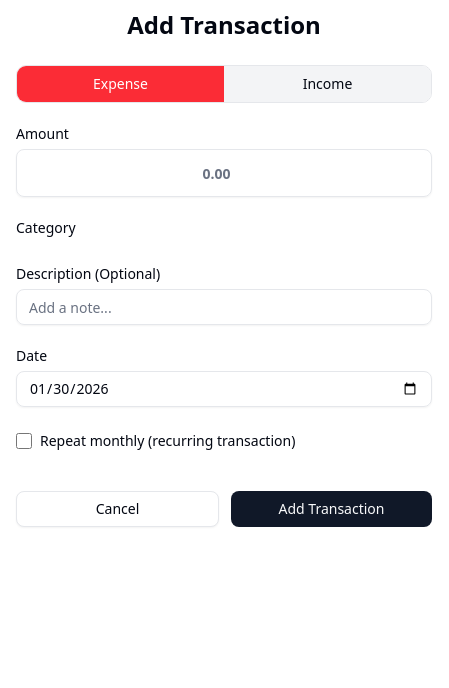
Scenario: Basic Integration Tests › Error Handling › should clear validation errors when user corrects input
Note: Submit to trigger validation errors
Click the button "Add Transaction" at (332, 509), box 231,491 -> 432,527
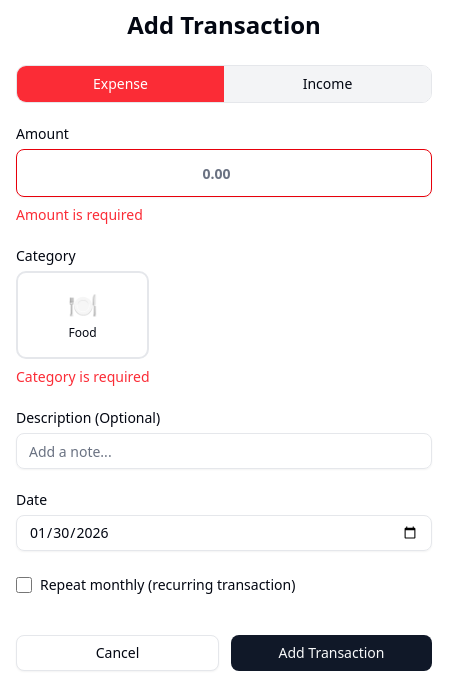
Result: the text "Amount is required" is shown at 16,205 -> 143,224
Note: Fix the amount error
Type "100" into the number field labelled "Amount" at (224, 173), box 16,149 -> 432,197
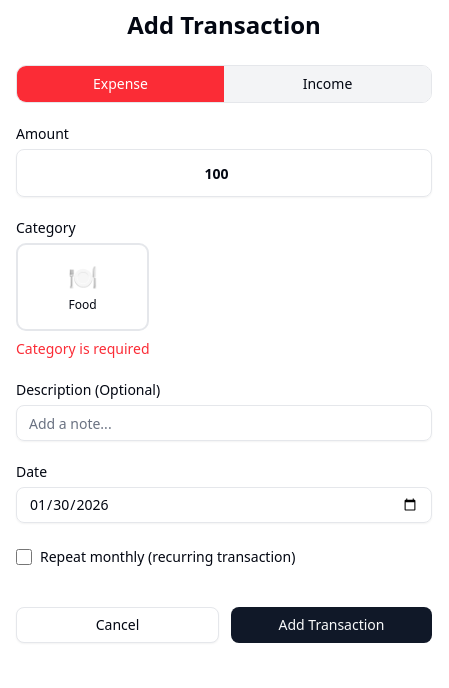
Result: the text "Amount is required" is gone
